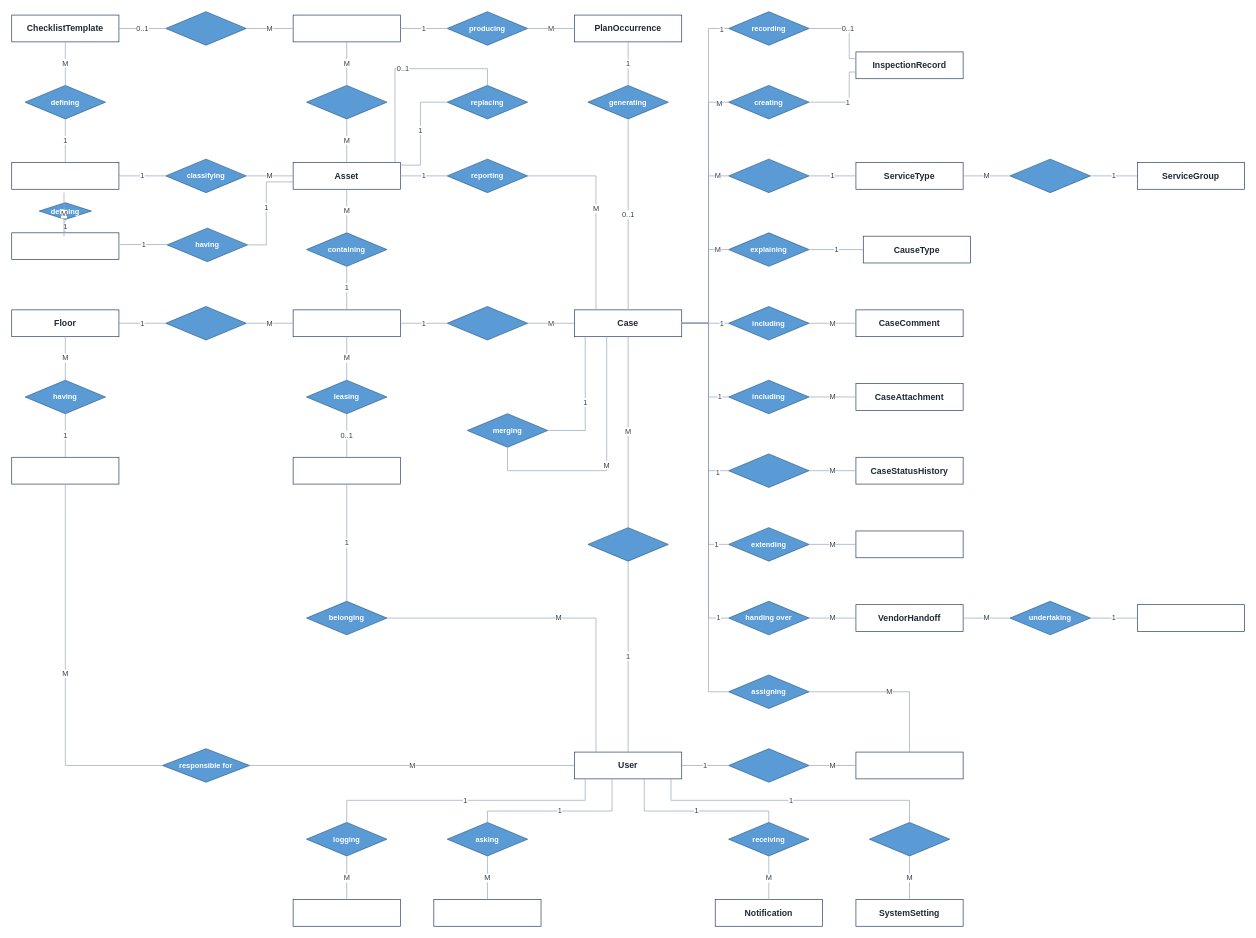
The diagram is 1256 pixels wide and 938 high, and some of its shapes have lost their labels. The shapes that lost their labels are listed below. From the top down, each one's centre as x and y in pixels, then its label:
the point at 205,28: based on
the point at 346,28: PreventivePlan
the point at 346,102: scheduling
the point at 65,175: AssetCategory
the point at 768,175: categorizing
the point at 1049,175: grouping
the point at 65,246: AssetType
the point at 205,323: consisting
the point at 346,323: Room
the point at 487,323: occurring at
the point at 65,470: Building
the point at 346,470: Unit
the point at 768,470: tracking
the point at 627,544: requesting
the point at 909,544: CaseDueChange
the point at 1191,617: Vendor
the point at 768,765: performing
the point at 909,765: Assignment
the point at 909,839: configuring
the point at 346,912: AuditLog
the point at 487,912: AIConversation
